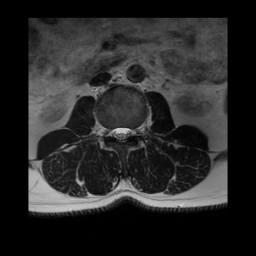CCS_normal: (118, 121, 124, 148)
LFS_normal: (131, 121, 138, 141)
LLS_normal: (124, 121, 131, 143)
RFS_normal: (106, 121, 112, 143)
RLS_normal: (112, 121, 118, 143)
